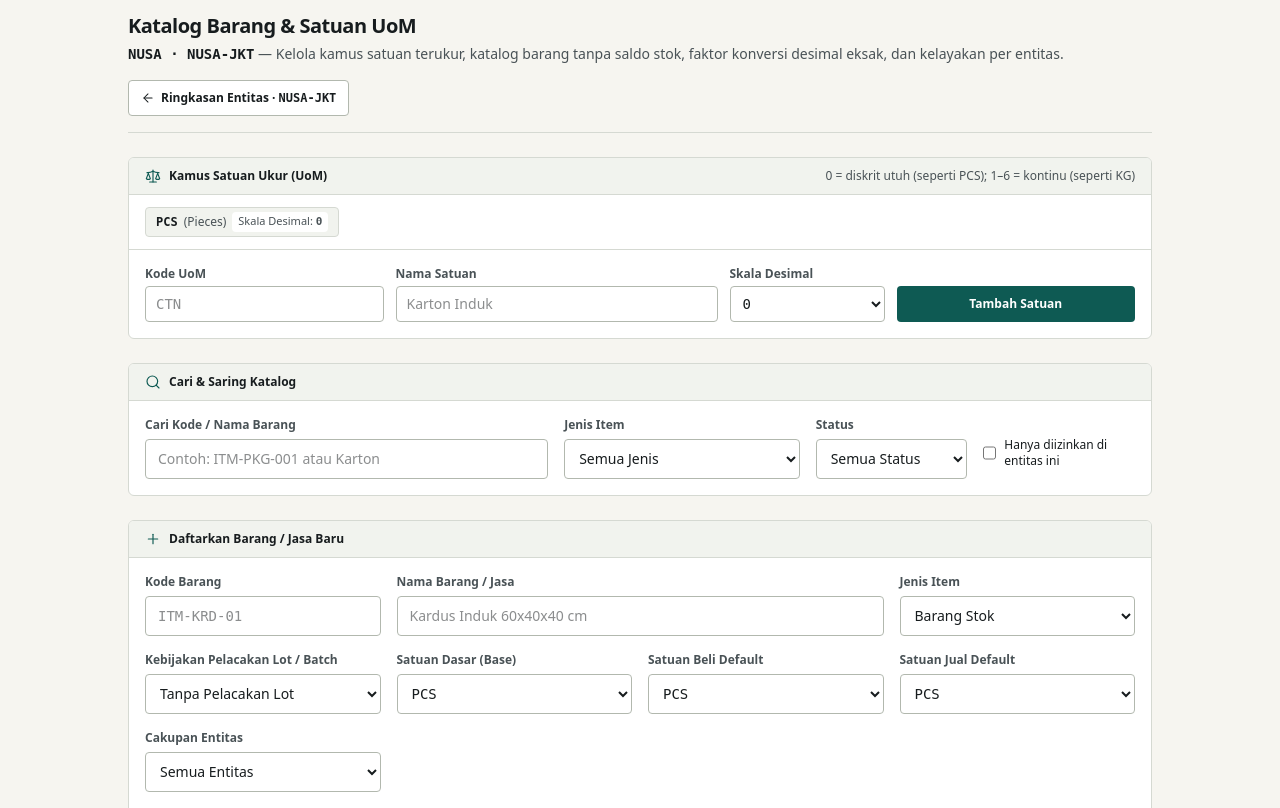
Scenario: S08 Stock Availability, Locations, Lots & Quality Restrictions UI › exposes LotTrackingPolicy controls in /catalog and lot/location fields in /receiving Gate 2
Later steps or results of the test are not shown.
Expected: the dropdown with id "new-item-lot-policy" is shown, [145, 674, 380, 714]
Select "Jasa Non-Stok" in the dropdown with id "new-item-kind". click: (1017, 616)
box: [900, 596, 1135, 636]
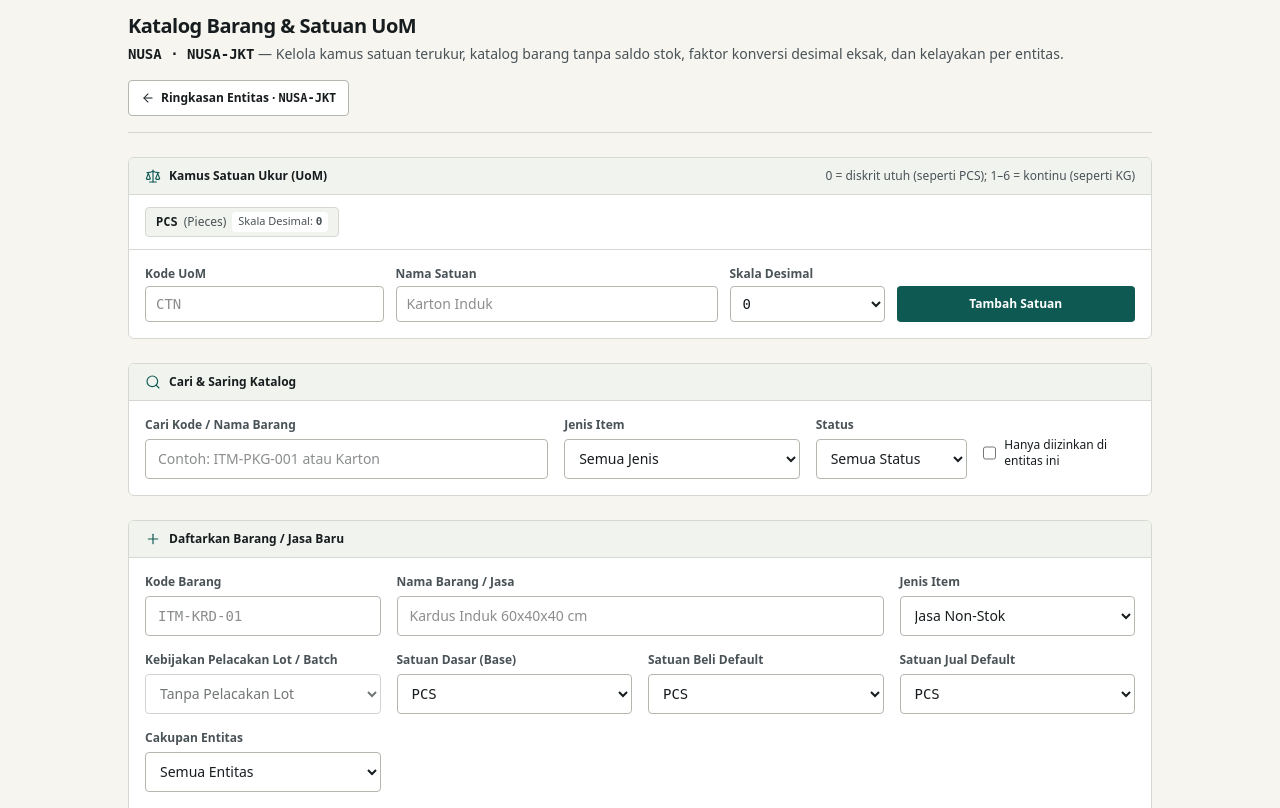
Expected: the dropdown with id "new-item-lot-policy" shows "Tanpa Pelacakan Lot", [145, 674, 380, 714]
Now the dropdown with id "new-item-lot-policy" is disabled, box [145, 674, 380, 714]
